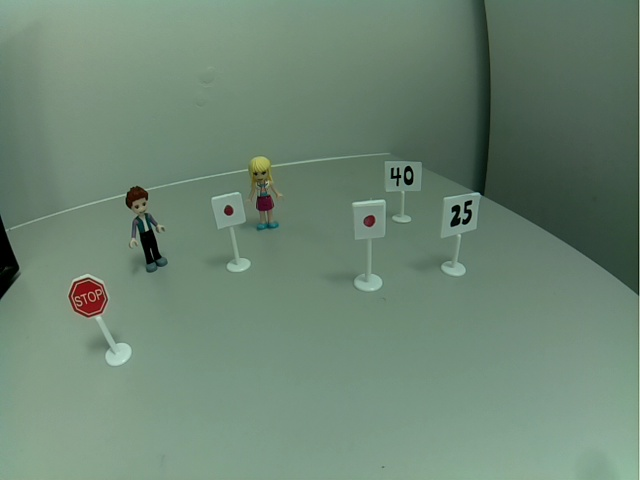people: (121, 186, 174, 275), (245, 152, 285, 234)
red light: (351, 199, 385, 239), (209, 193, 245, 228)
speed 25: (440, 193, 480, 239)
speed 40: (384, 160, 425, 192)
stop: (65, 273, 110, 321)
